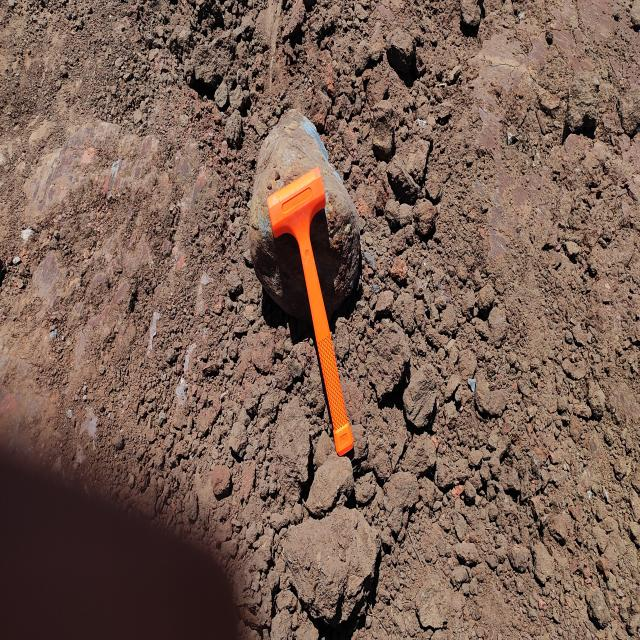Orange_hammer: (266, 165, 354, 458)
